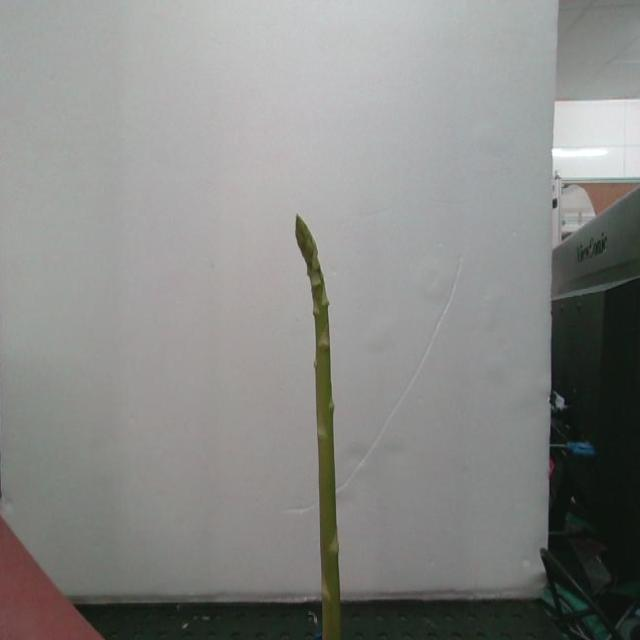aspargus: (296, 217, 343, 640)
